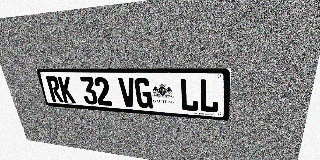2: (93, 77, 112, 106)
3: (80, 77, 98, 105)
G: (134, 78, 153, 109)
K: (57, 76, 76, 103)
L: (199, 79, 220, 113), (179, 78, 199, 112)
R: (46, 76, 64, 102)
V: (118, 77, 137, 108)
